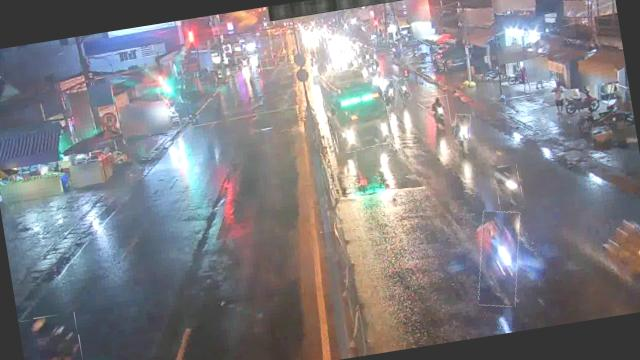Bike: (470, 207, 530, 310), (20, 311, 86, 360), (494, 164, 524, 210), (430, 94, 450, 127), (380, 78, 400, 108), (452, 113, 473, 141), (398, 77, 411, 100)
Bus: (319, 62, 394, 154)
